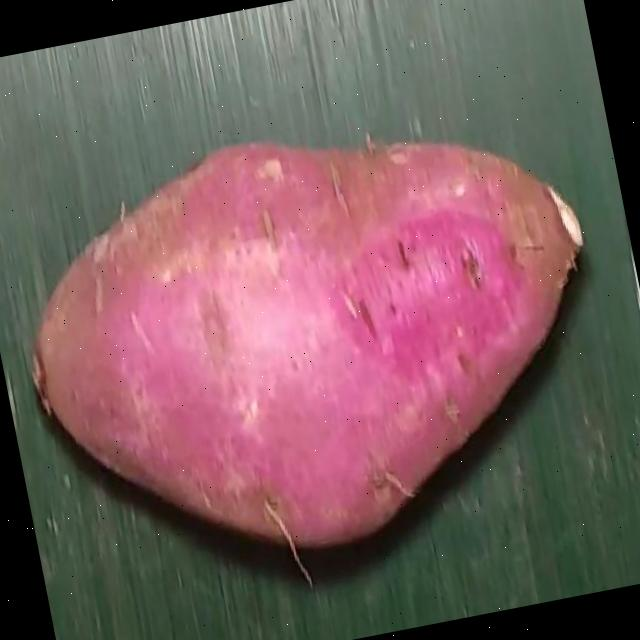Sweet Potato: (31, 139, 584, 552)
